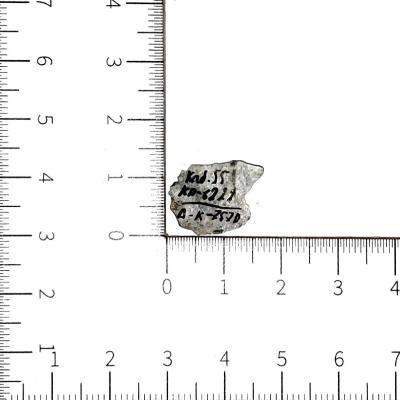archeology: (169, 160, 264, 237)
